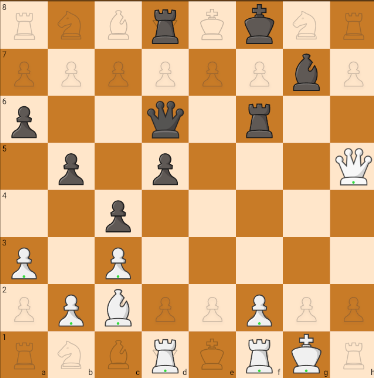bb: (283, 52, 327, 94)
bk: (239, 3, 282, 48)
bp: (50, 144, 91, 191), (3, 97, 44, 142), (145, 145, 184, 189), (96, 193, 136, 235)
bq: (143, 96, 189, 143)
br: (145, 1, 188, 49), (237, 96, 279, 138)
wb: (98, 288, 140, 328)
wk: (288, 333, 326, 375)
wp: (4, 240, 44, 283), (51, 285, 85, 329), (241, 288, 277, 329), (103, 241, 136, 282)
wq: (331, 145, 371, 188)
wr: (144, 332, 187, 377), (239, 337, 278, 375)
